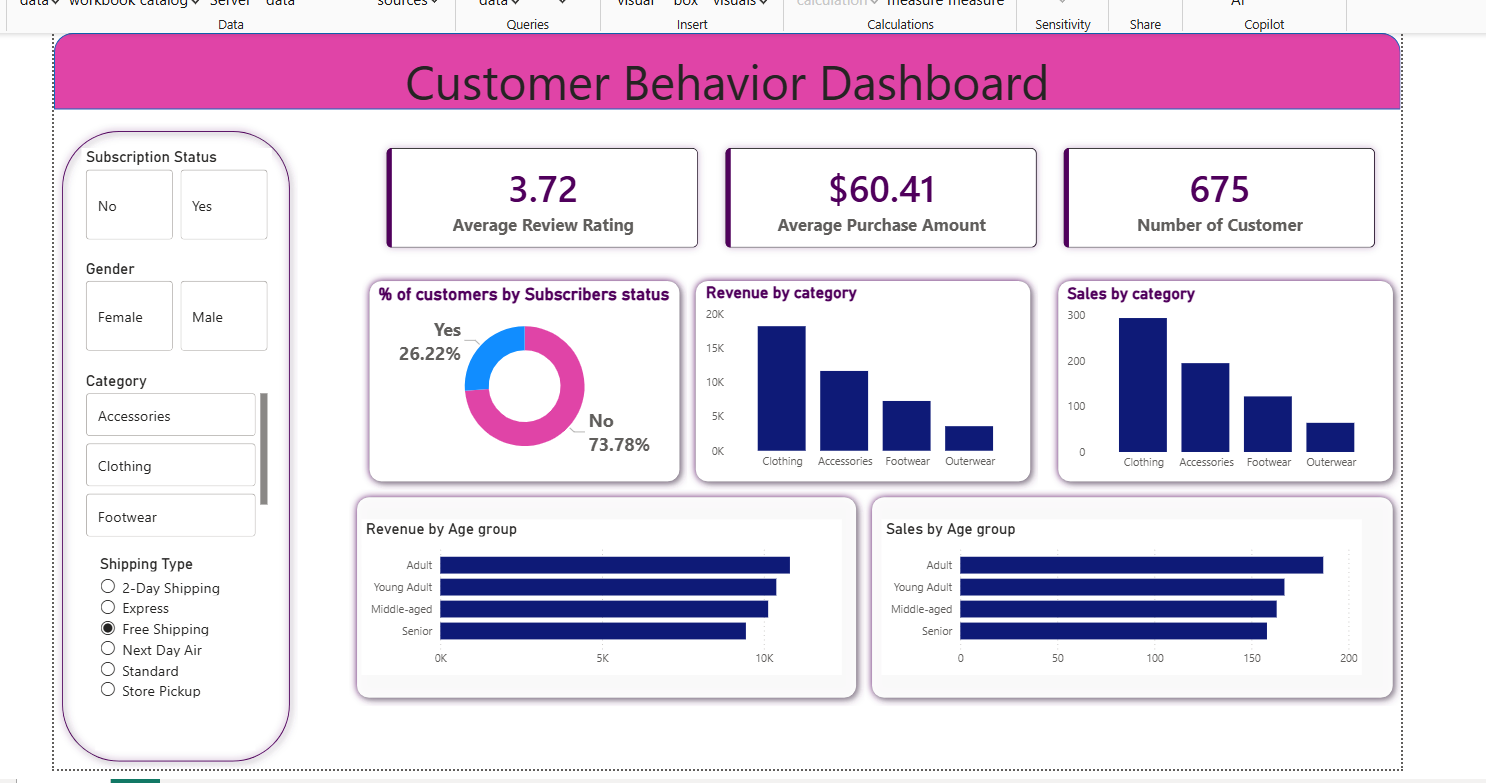

What the dashboard file says about the page in this screenshot:
{"tool":"powerbi","page":{"name":"Page 1","canvas":[1500,820],"ordinal":0},"visuals":[{"type":"cardVisual","fields":{"Data":["publiccustomer.Averaage ReviewmRating","publiccustomer.Average Purchase Amount","publiccustomer.Number of Customer"]},"box":[342.5,99.7,1157.8,167.2],"z":0},{"type":"shape","box":[0,0,1500.3,85.2],"z":1},{"type":"textbox","box":[0,12.9,1500.3,86.8],"z":2},{"type":"shape","box":[342.5,266.9,363.4,241.2],"z":3},{"type":"donutChart","title":"% of customers by Subscribers status","fields":{"Category":["publiccustomer.subscription_status"],"Y":["CountNonNull(publiccustomer.customer_id)"]},"box":[357,279.8,336.1,205.8],"z":4},{"type":"shape","box":[705.9,266.9,390.8,241.2],"z":5},{"type":"shape","box":[1109.6,266.9,390.8,241.2],"z":6},{"type":"clusteredColumnChart","title":"Revenue by category","fields":{"Category":["publiccustomer.category"],"Y":["Sum(publiccustomer.purchase_amount)"]},"box":[722,278.2,360.2,217.1],"z":7},{"type":"clusteredColumnChart","title":"Sales by category","fields":{"Category":["publiccustomer.category"],"Y":["CountNonNull(publiccustomer.customer_id)"]},"box":[1124,279.8,360.2,217.1],"z":8},{"type":"shape","box":[0,99.7,271.8,720.4],"z":9},{"type":"advancedSlicerVisual","fields":{"Values":["publiccustomer.gender"]},"box":[30.6,252.5,212.3,107.7],"z":10},{"type":"advancedSlicerVisual","fields":{"Values":["publiccustomer.subscription_status"]},"box":[30.6,128.6,212.3,107.7],"z":11},{"type":"advancedSlicerVisual","fields":{"Values":["publiccustomer.category"]},"box":[30.6,377.9,212.3,191.4],"z":12},{"type":"listSlicer","fields":{"Values":["publiccustomer.shipping_type"]},"box":[46.6,580.5,178.5,218.7],"z":13},{"type":"shape","box":[328,508.1,574.1,241.2],"z":15},{"type":"clusteredBarChart","title":"Revenue by Age group","fields":{"Y":["Sum(publiccustomer.purchase_amount)"],"Category":["publiccustomer.age_group"]},"box":[342.5,541.9,535.5,173.7],"z":16},{"type":"shape","box":[902.1,508.1,598.2,241.2],"z":17},{"type":"clusteredBarChart","title":"Sales by Age group","fields":{"Category":["publiccustomer.age_group"],"Y":["CountNonNull(publiccustomer.customer_id)"]},"box":[921.4,541.9,535.5,173.7],"z":18}]}

Visuals, with their boxes on the page's 1500x820 design canvas (x1, y1, x2, y2). These are canvas units, not pixel positions in the 1486x783 screenshot, which may show the page scaled, cropped or inside an application window:
cardVisual - publiccustomer.Averaage ReviewmRating x publiccustomer.Average Purchase Amount: <region>342, 100, 1500, 267</region>
shape: <region>0, 0, 1500, 85</region>
textbox: <region>0, 13, 1500, 100</region>
shape: <region>342, 267, 706, 508</region>
"% of customers by Subscribers status" donutChart: <region>357, 280, 693, 486</region>
shape: <region>706, 267, 1097, 508</region>
shape: <region>1110, 267, 1500, 508</region>
"Revenue by category" clusteredColumnChart: <region>722, 278, 1082, 495</region>
"Sales by category" clusteredColumnChart: <region>1124, 280, 1484, 497</region>
shape: <region>0, 100, 272, 820</region>
advancedSlicerVisual - publiccustomer.gender: <region>31, 252, 243, 360</region>
advancedSlicerVisual - publiccustomer.subscription_status: <region>31, 129, 243, 236</region>
advancedSlicerVisual - publiccustomer.category: <region>31, 378, 243, 569</region>
listSlicer - publiccustomer.shipping_type: <region>47, 580, 225, 799</region>
shape: <region>328, 508, 902, 749</region>
"Revenue by Age group" clusteredBarChart: <region>342, 542, 878, 716</region>
shape: <region>902, 508, 1500, 749</region>
"Sales by Age group" clusteredBarChart: <region>921, 542, 1457, 716</region>
